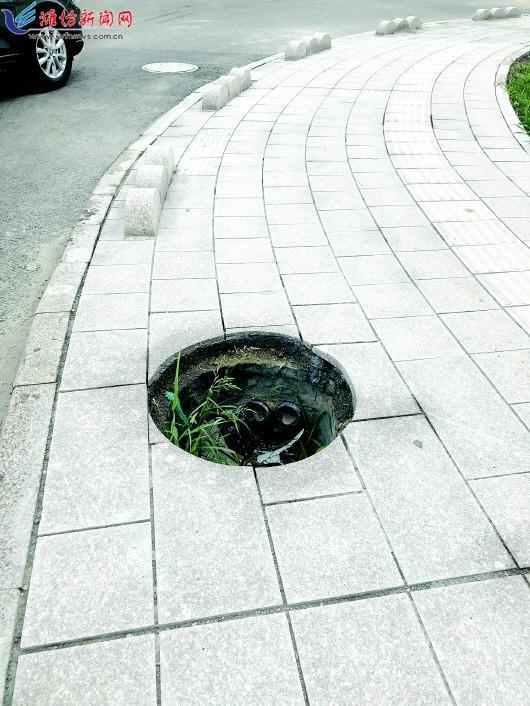wellcover: (143, 309, 376, 480)
